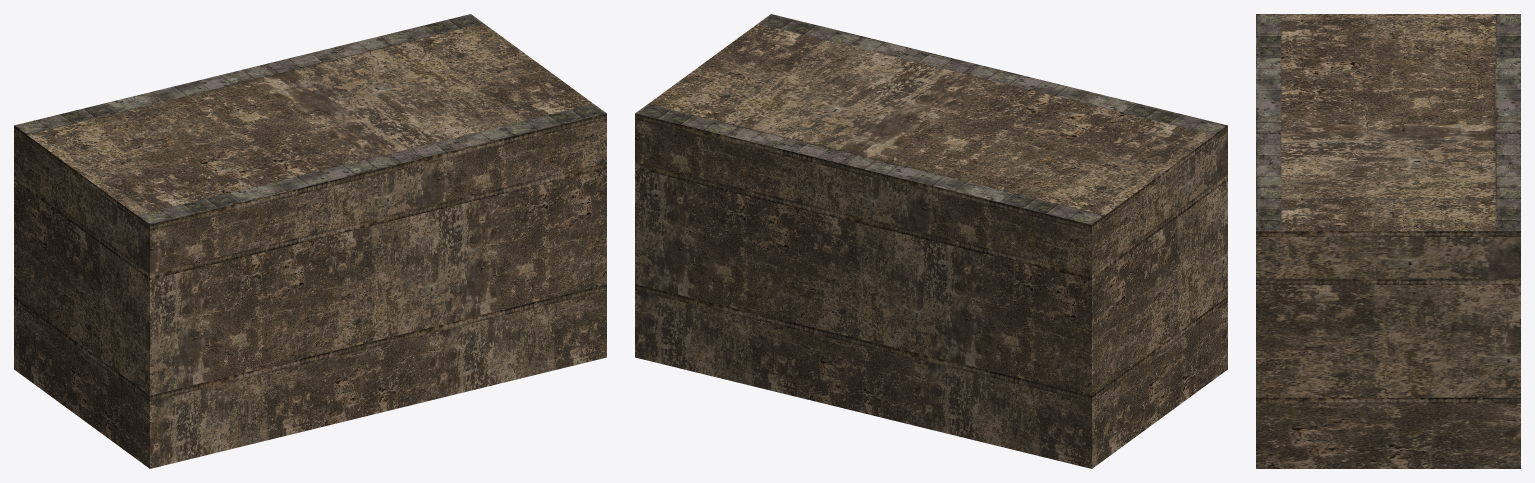
File: materials_5_stairblock_9.fbx
3 views of the same model, side by side, from view 1: azimuth 30°, elevation 25°; view 2: azimuth 150°, elevation 25°; view 3: azimuth 270°, elevation 25° (orthographic). The views are drawn at different scales.
Parts seen in each view (by area): view 1: materials_5_stairblock_9; view 2: materials_5_stairblock_9; view 3: materials_5_stairblock_9.
Boxes of the visible parts, box(x1,y1,x2,y2) form: materials_5_stairblock_9: box(14, 14, 606, 468); materials_5_stairblock_9: box(635, 14, 1227, 468); materials_5_stairblock_9: box(1256, 14, 1520, 468).
Bounding box in the file's own units: 407 × 208 × 210.
